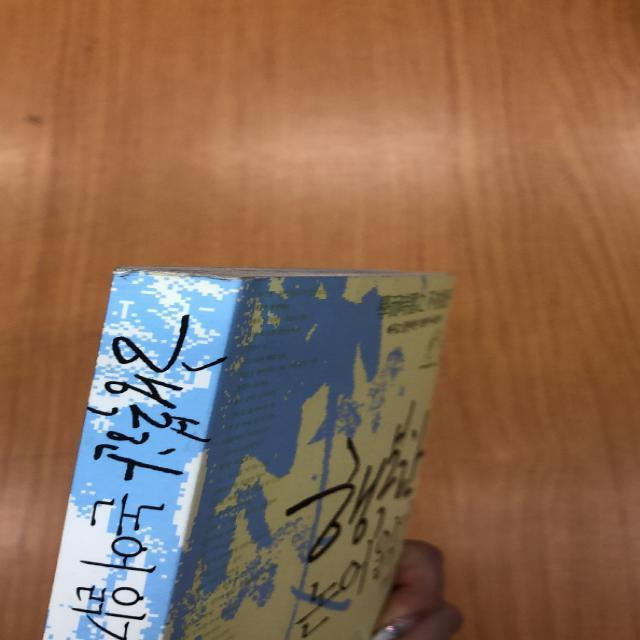Wornout: (107, 261, 279, 285)
